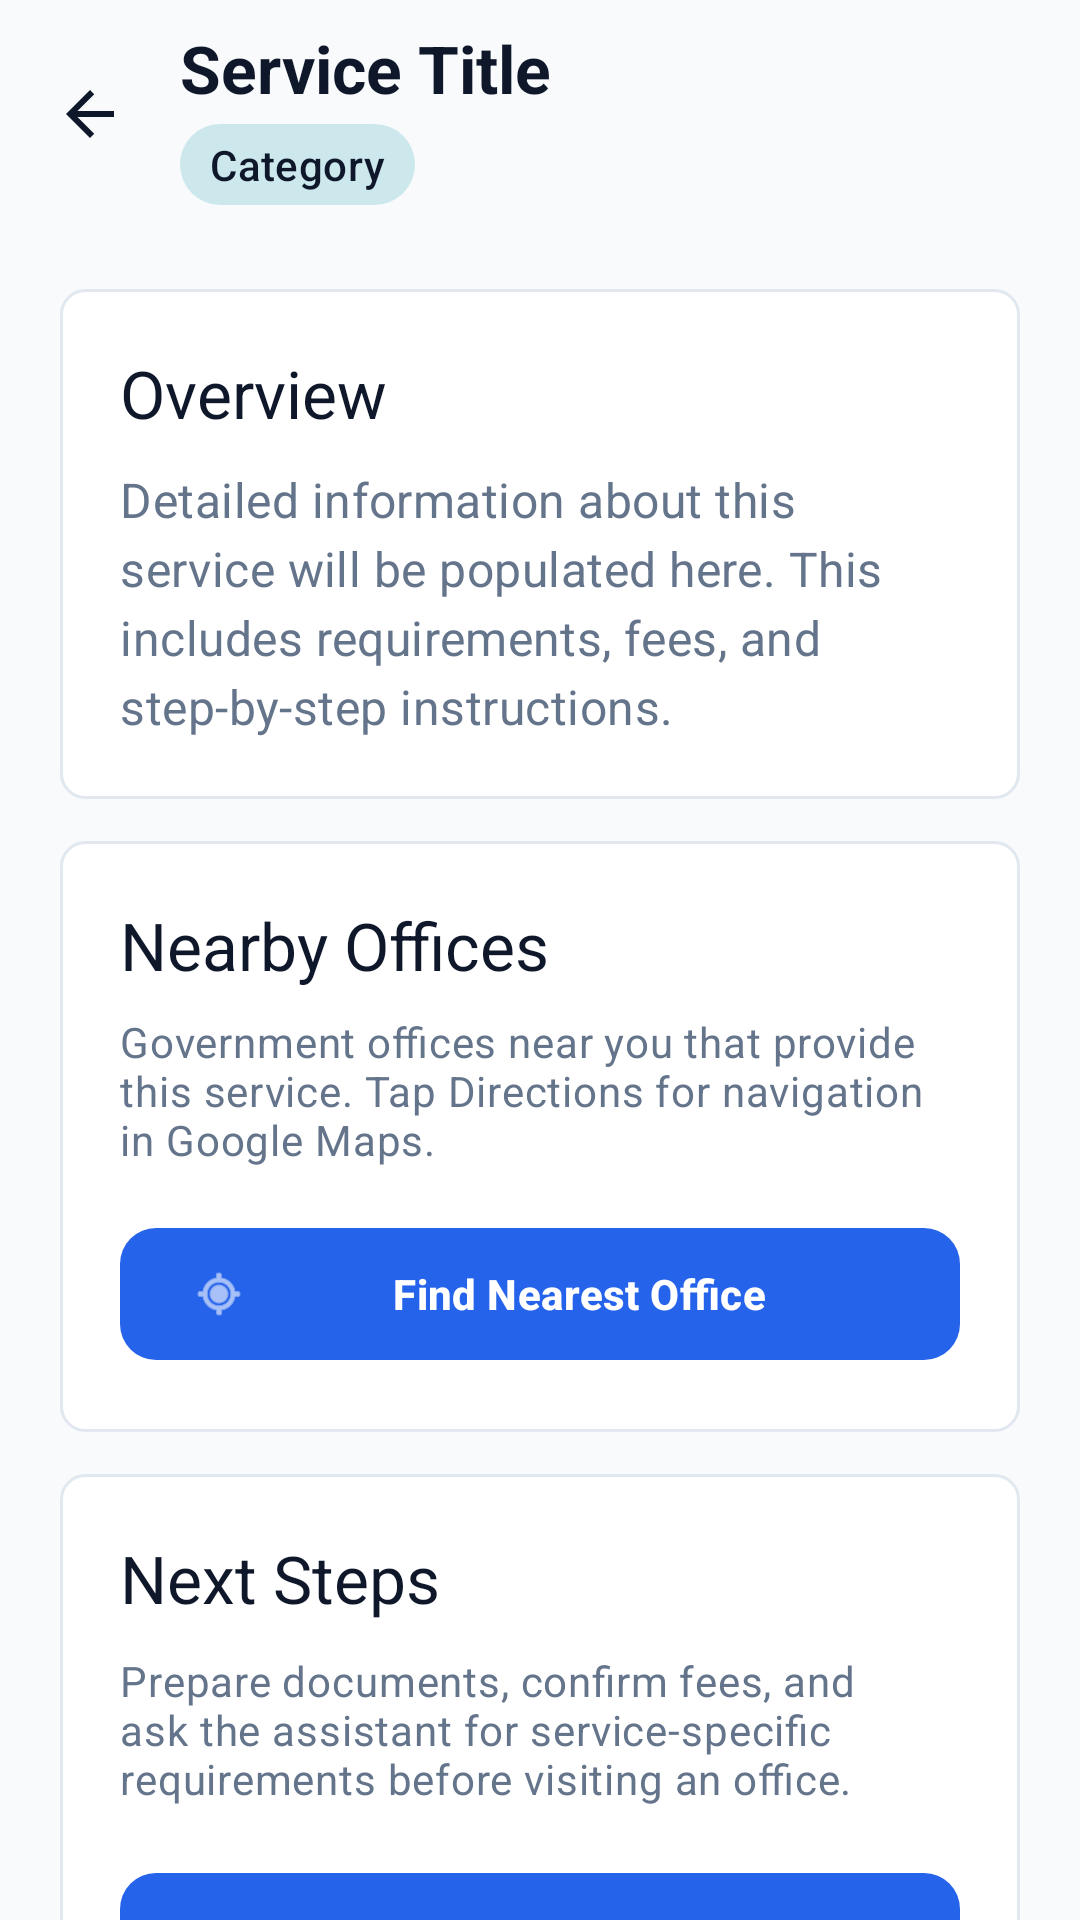

Where icons sit on this 1080px×1920px app screen, as (x1, y1, x2, y2):
Back: (66, 90, 114, 138)
